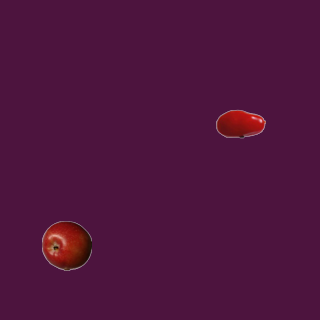Apple Braeburn: (41, 220, 91, 270)
Tomato 2: (215, 98, 265, 148)
